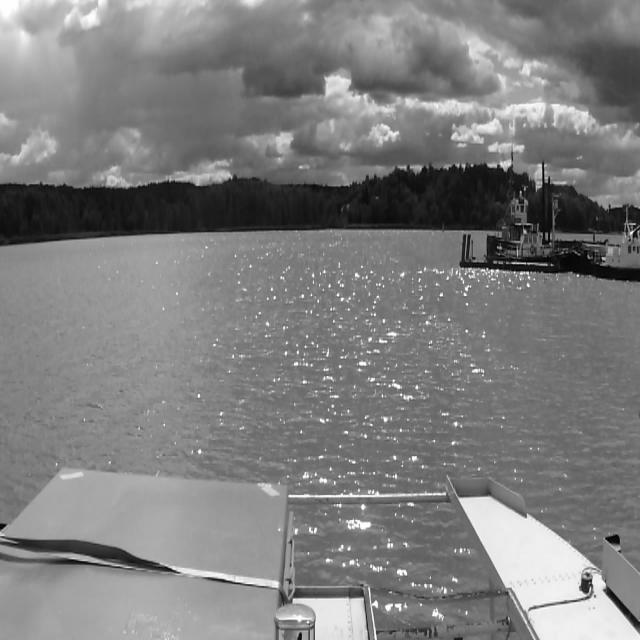ship: (488, 186, 578, 258), (596, 220, 640, 282)
